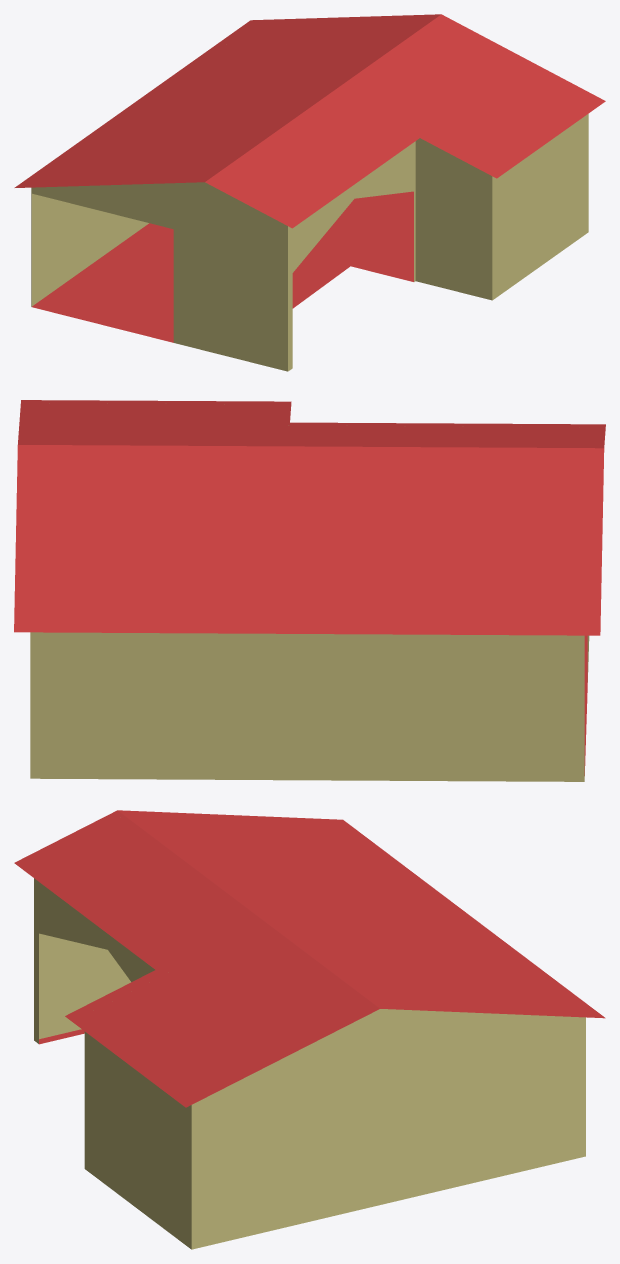
The picture shows the model from 3 angles, top to bottom: view 1: azimuth 30°, elevation 25°; view 2: azimuth 150°, elevation 25°; view 3: azimuth 270°, elevation 25°; orthographic projection. The views are drawn at different scales.
Size of the model in its own units: 36 by 30.24 by 11.46.
